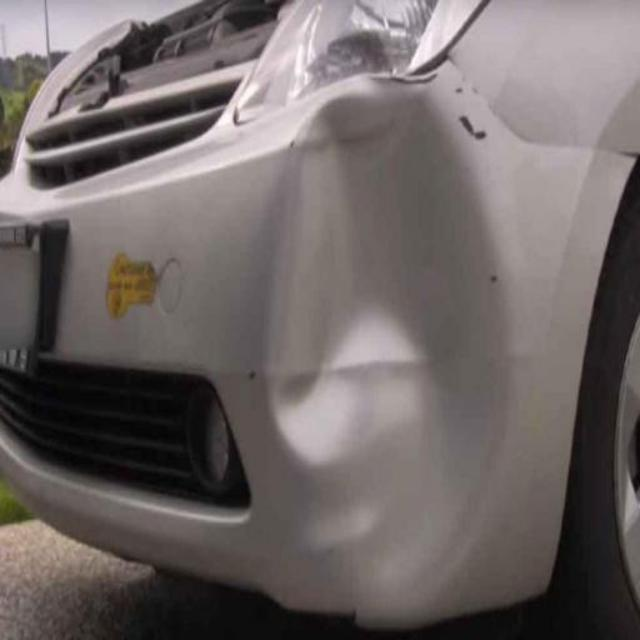crack: (449, 75, 638, 172)
dent: (258, 82, 515, 614)
